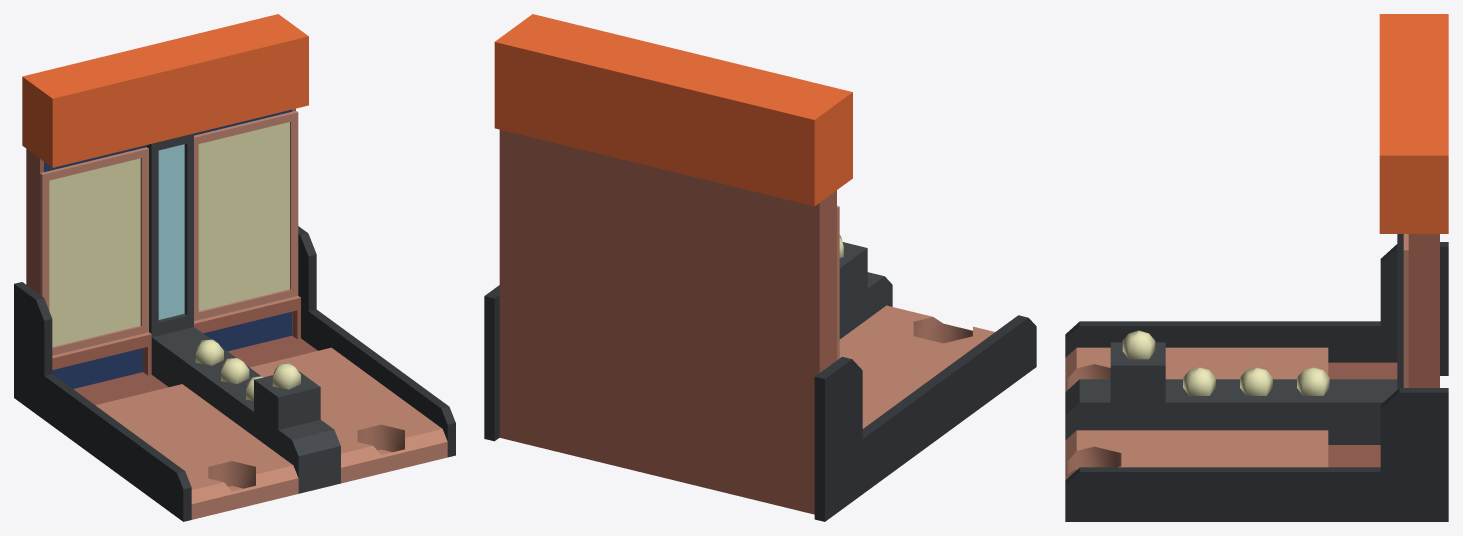
Rendered from SM_GameArea_RecreationalMachines_02.fbx.
The picture shows the model from 3 angles, left to right: view 1: azimuth 30°, elevation 25°; view 2: azimuth 150°, elevation 25°; view 3: azimuth 270°, elevation 25°; orthographic projection. The views are drawn at different scales.
Visible parts, largest first — view 1: SM_GameArea_RecreationalMachines_02; view 2: SM_GameArea_RecreationalMachines_02; view 3: SM_GameArea_RecreationalMachines_02.
Boxes of the visible parts, left/top/right/bottom form: SM_GameArea_RecreationalMachines_02: left=14, top=14, right=455, bottom=521; SM_GameArea_RecreationalMachines_02: left=484, top=14, right=1036, bottom=521; SM_GameArea_RecreationalMachines_02: left=1065, top=14, right=1448, bottom=521.
Size of the model in its own units: 11.46 by 12.84 by 12.34.
Materials: 3 (1 with a texture image).
